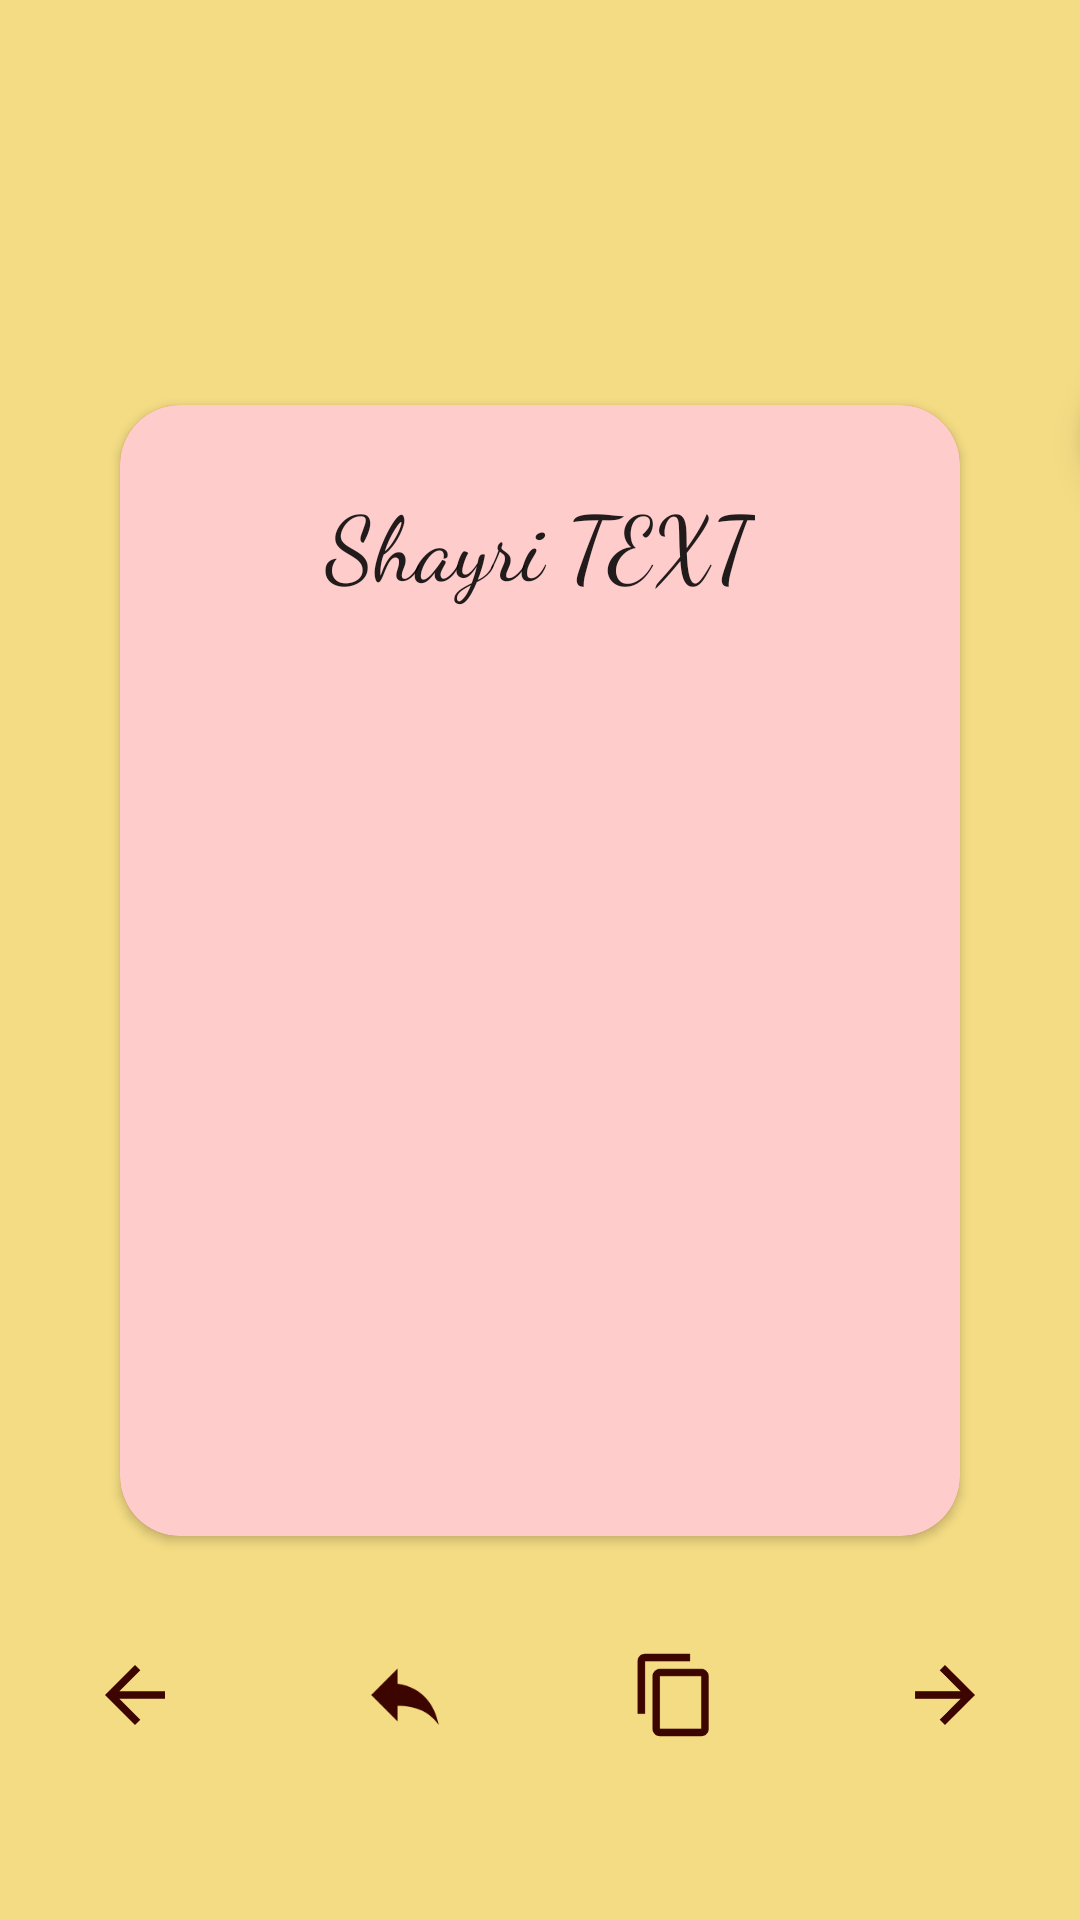

Icon click points for this 1080 × 1920 phone screenshot, format (x=x, y=y):
next: (x=945, y=1695)
prev: (x=135, y=1695)
